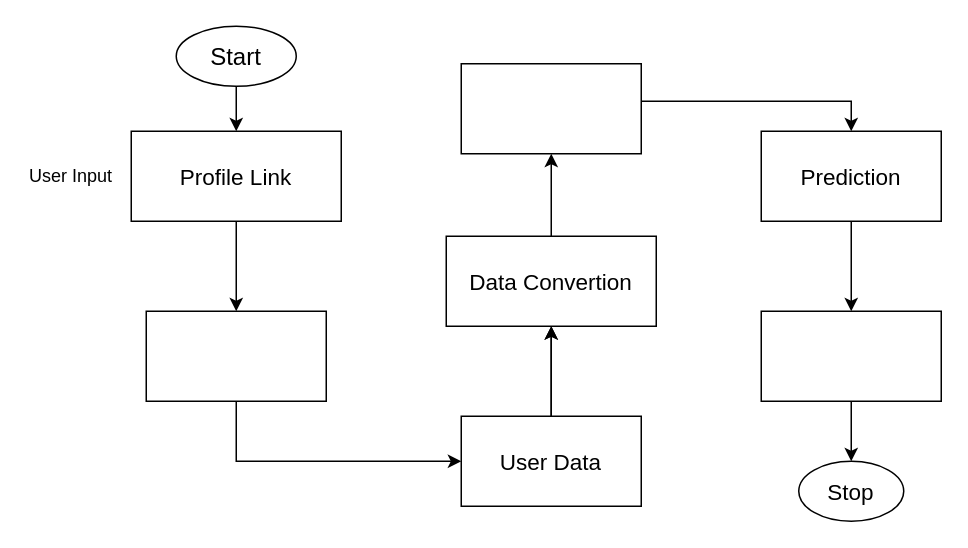
Some shapes in this 968 by 548 pixel diagram are drawn without their labels. The centre of each missing label's shape, as x and y in pixels:
Display Output: [850,355]
Instagram API: [235,355]
Model: [550,108]
